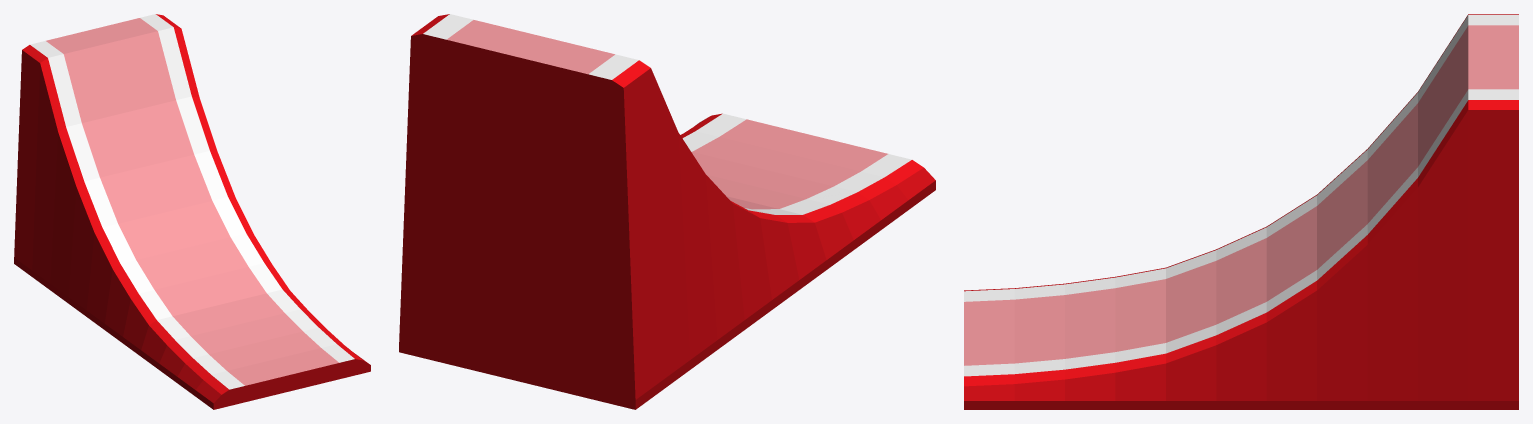
The model's file is ramp2.fbx.
3 renders of one model, left to right at view 1: azimuth 30°, elevation 25°; view 2: azimuth 150°, elevation 25°; view 3: azimuth 270°, elevation 25°, orthographic. The views are drawn at different scales.
Parts seen in each view (by area): view 1: RampBig; view 2: RampBig; view 3: RampBig.
Part boxes in pixels (<box>): RampBig: <box>14,14,370,409</box>; RampBig: <box>399,14,935,409</box>; RampBig: <box>964,14,1518,409</box>.
Bounding box in the file's own units: 10 × 13.1 × 22.
